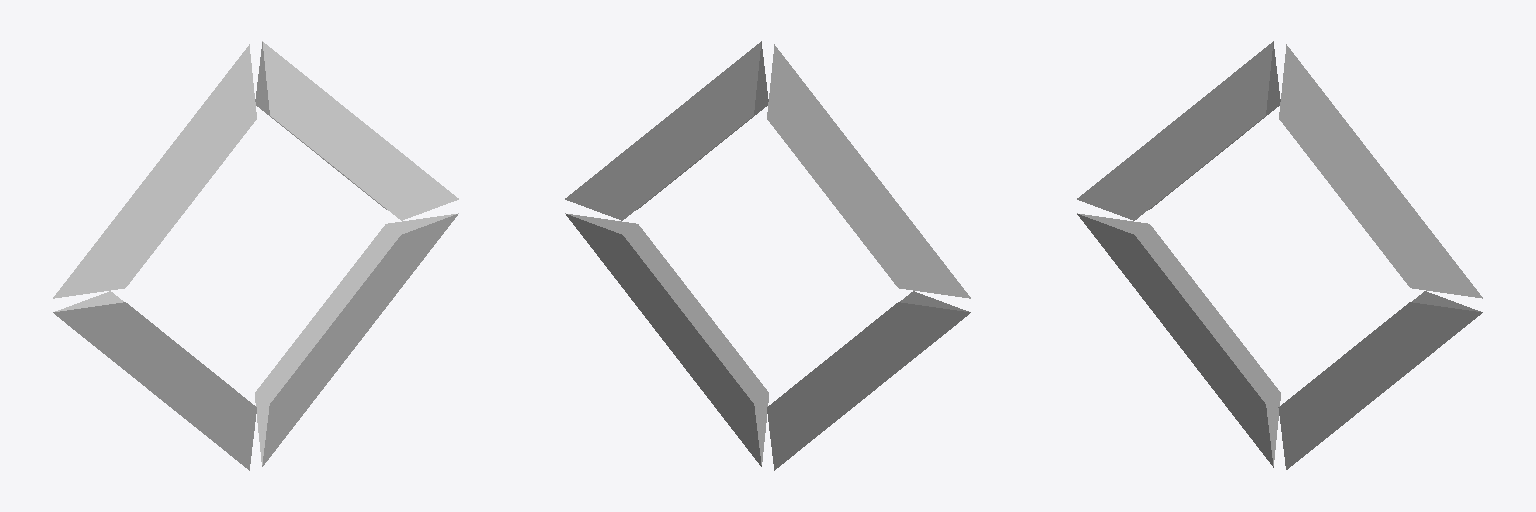
3 renders of one model, left to right at view 1: azimuth 30°, elevation 25°; view 2: azimuth 150°, elevation 25°; view 3: azimuth 330°, elevation 25°, orthographic.
Visible parts, largest first — view 1: inside; view 2: inside; view 3: inside.
Boxes of the visible parts, box(x1,y1,x2,y2) form: inside: box(53, 41, 458, 470); inside: box(565, 41, 970, 470); inside: box(1077, 41, 1482, 469).
Size of the model in its own units: 3.1 by 3.1 by 0.2008.
1 materials, 1 textured.